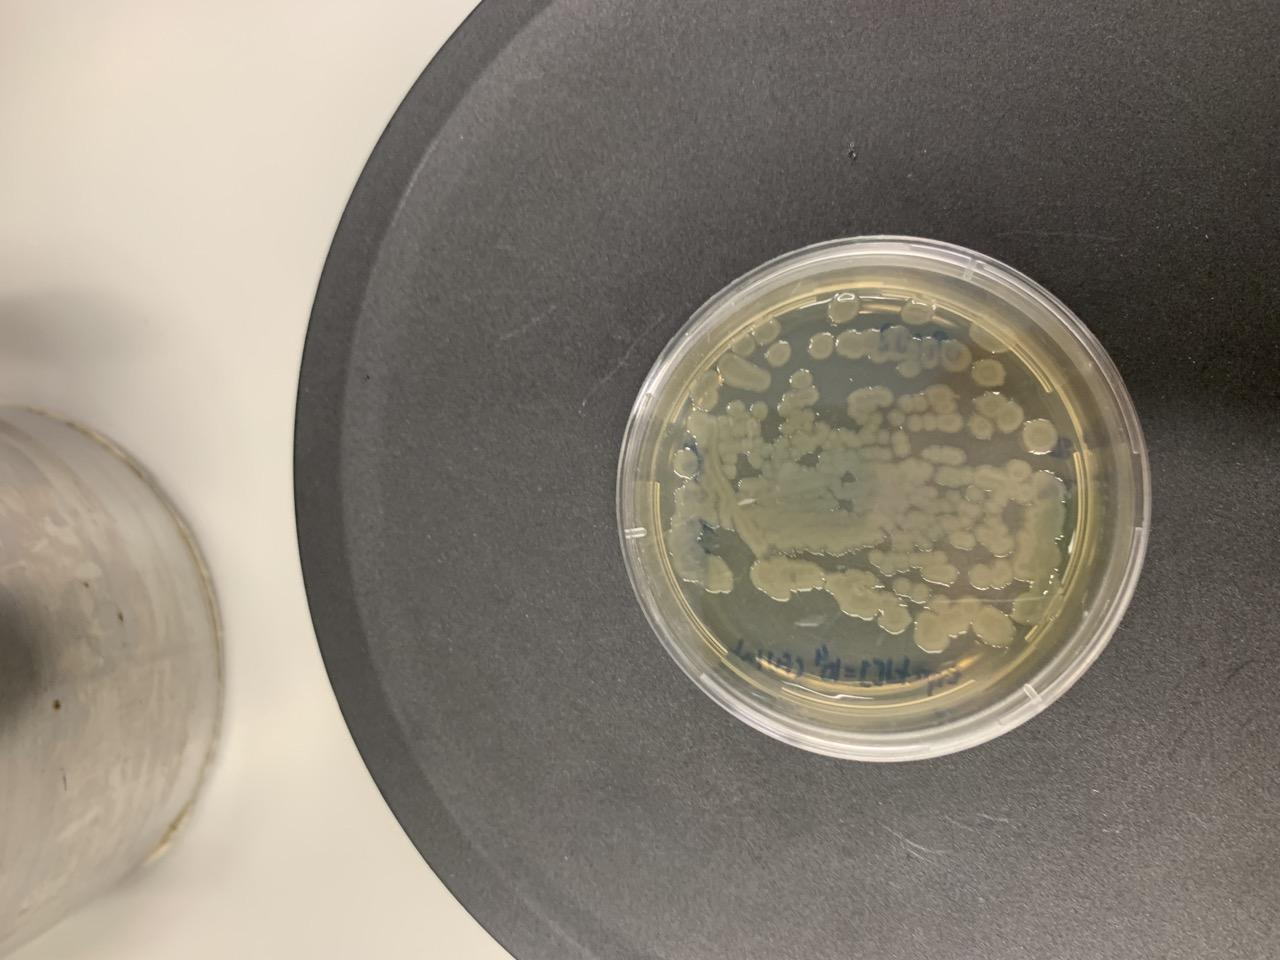colony: (971, 603, 1018, 648), (912, 607, 951, 652), (867, 328, 918, 362), (1021, 415, 1058, 457), (940, 337, 972, 374), (899, 294, 937, 325), (891, 575, 930, 604), (826, 290, 861, 323), (972, 357, 1006, 388), (988, 555, 1015, 592), (926, 385, 959, 414), (804, 329, 835, 360), (837, 329, 865, 361), (764, 338, 792, 368), (966, 561, 993, 591), (968, 412, 995, 440), (919, 335, 941, 368), (786, 366, 815, 390), (890, 429, 913, 458), (897, 359, 923, 378), (938, 413, 964, 433), (750, 399, 769, 422), (887, 406, 905, 426), (906, 412, 922, 433), (898, 392, 914, 412)
